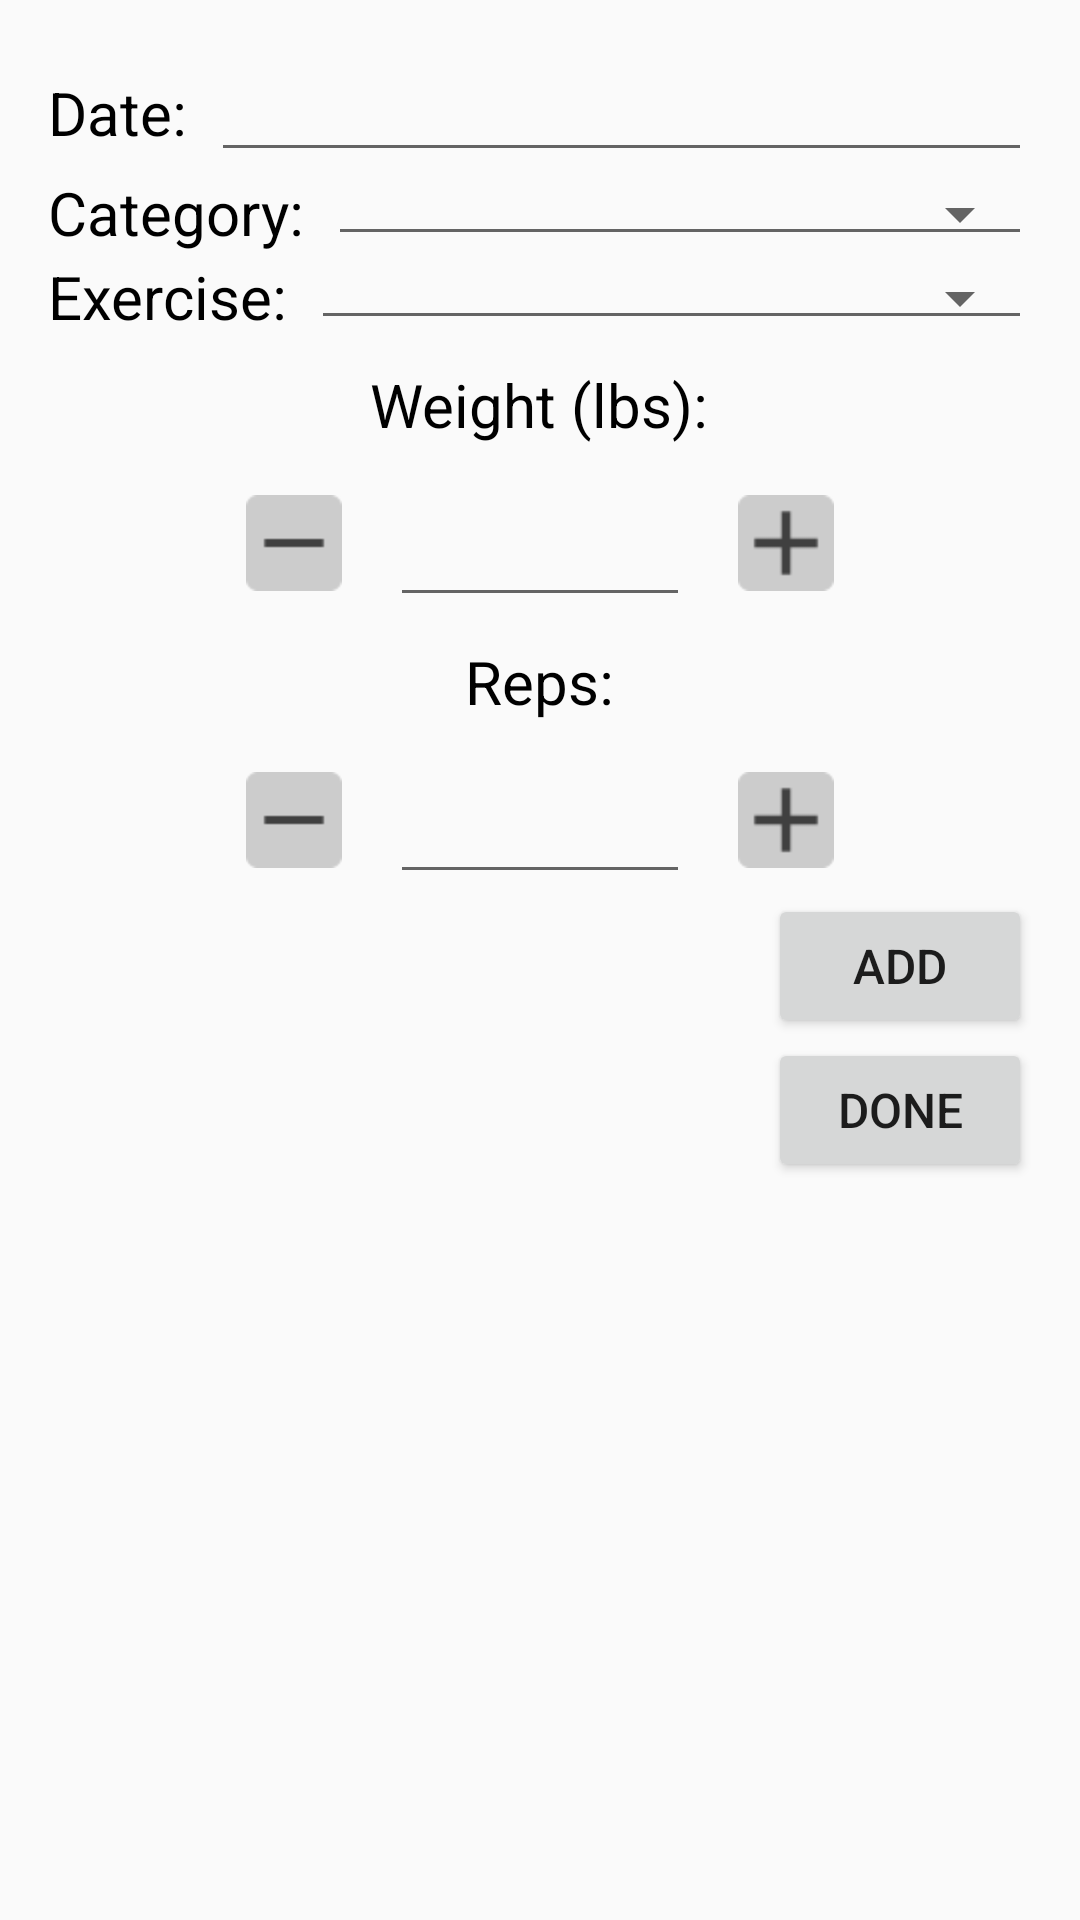

Where icons sit on this 1080×1920 app screen, as (x1, y1, x2, y2):
minus: (246, 495, 342, 591), (246, 772, 342, 868)
plus: (738, 495, 834, 591), (738, 772, 834, 868)
